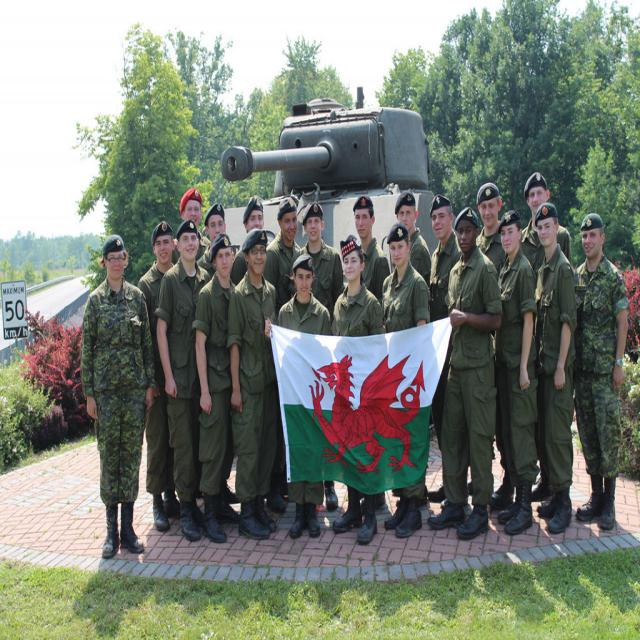tank: (214, 86, 453, 277)
